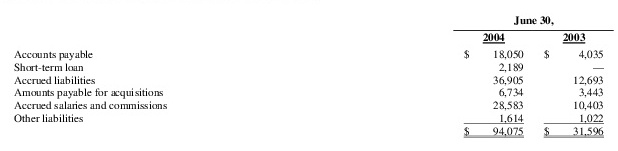table: (0, 0, 618, 151)
